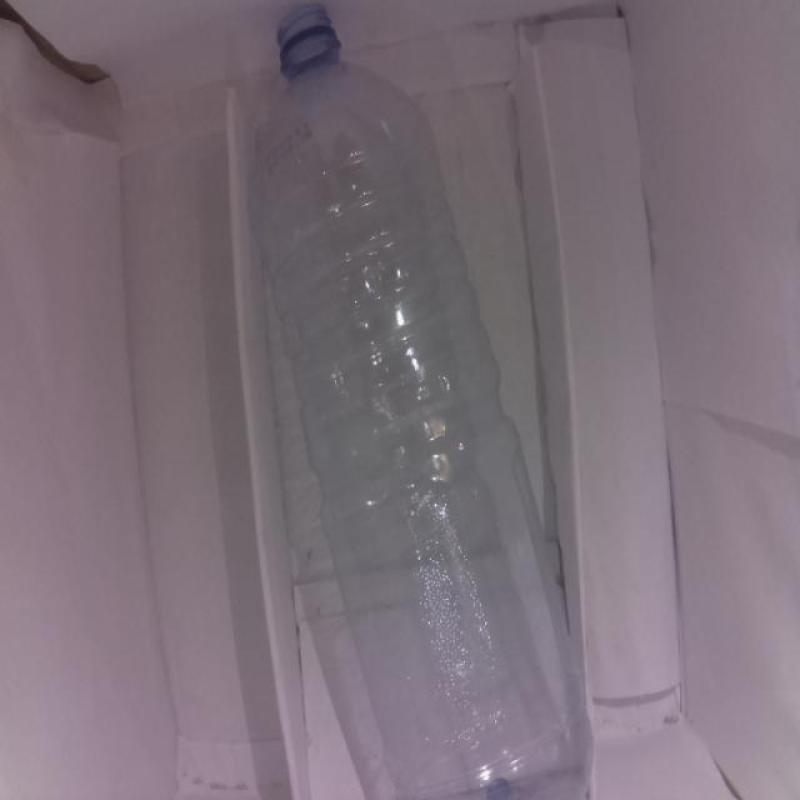botella: (252, 5, 592, 800)
